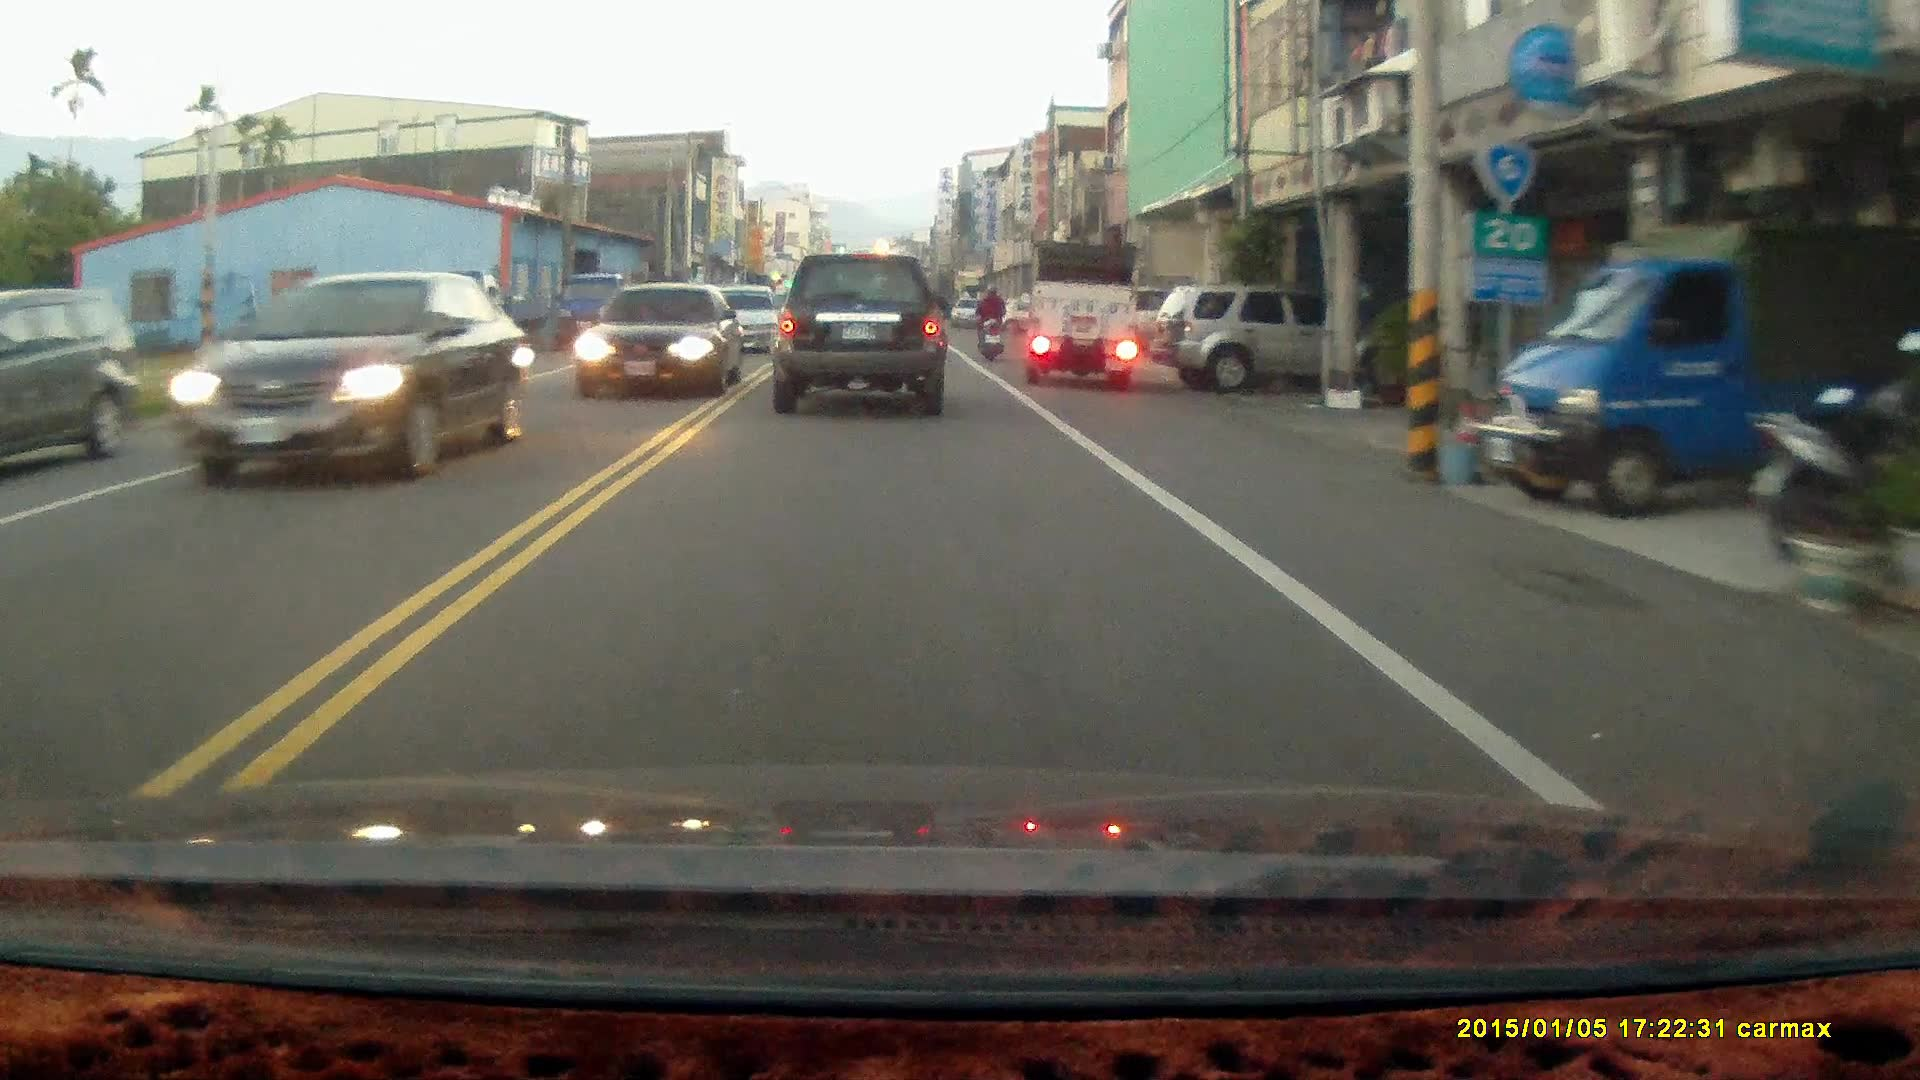rider: (972, 284, 1006, 363)
vehicle: (1484, 182, 1863, 532), (166, 267, 533, 493), (768, 263, 948, 428), (2, 288, 146, 487), (575, 285, 748, 405), (1150, 288, 1333, 400), (1028, 248, 1140, 394)
